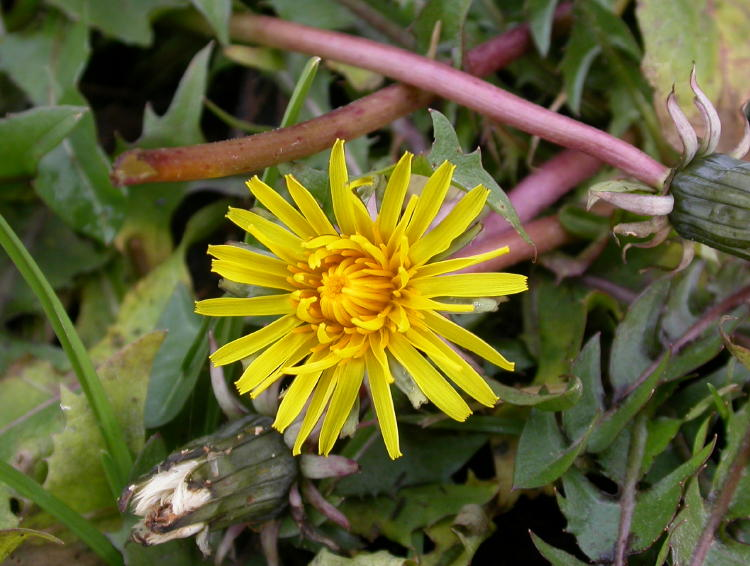dandelion: (209, 178, 494, 446)
